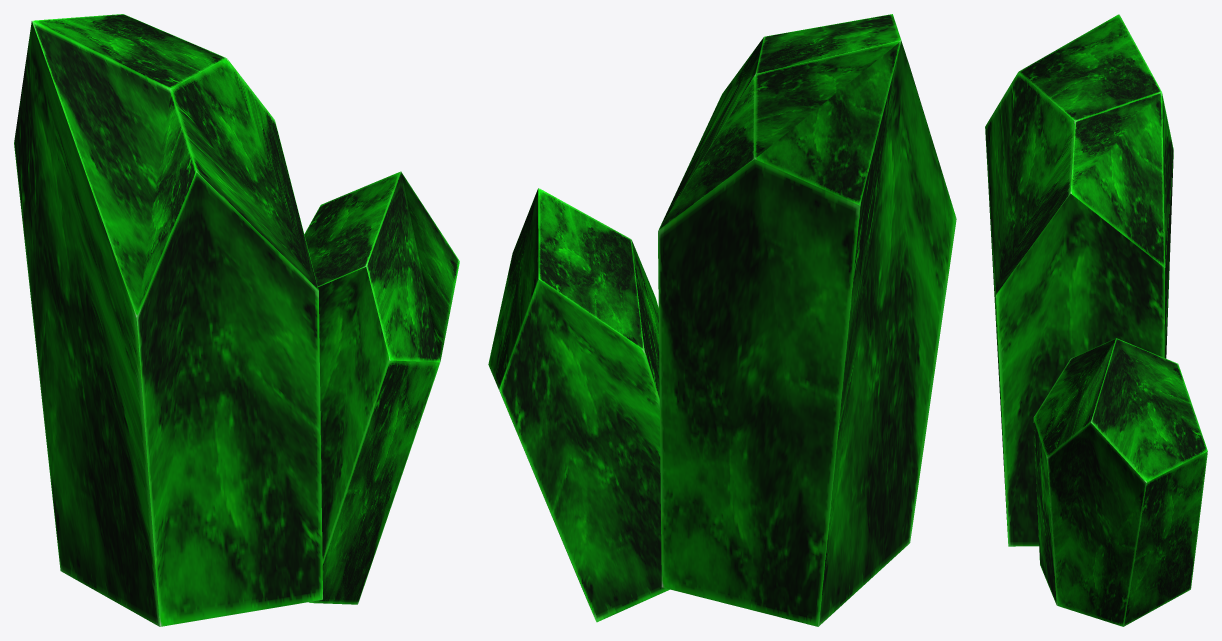
The model's file is c_Cris2.glb.
3 views of the same model, side by side, from view 1: azimuth 30°, elevation 25°; view 2: azimuth 150°, elevation 25°; view 3: azimuth 270°, elevation 25° (orthographic). The views are drawn at different scales.
Parts seen in each view (by area): view 1: c_Cris2-col; view 2: c_Cris2-col; view 3: c_Cris2-col.
Boxes of the visible parts, x1=… form: c_Cris2-col: x1=14, y1=14, x2=459, y2=626; c_Cris2-col: x1=488, y1=14, x2=956, y2=626; c_Cris2-col: x1=985, y1=14, x2=1207, y2=626.
Size of the model in its own units: 0.494 by 0.7346 by 0.3002.
Materials: 1 (1 with a texture image).
